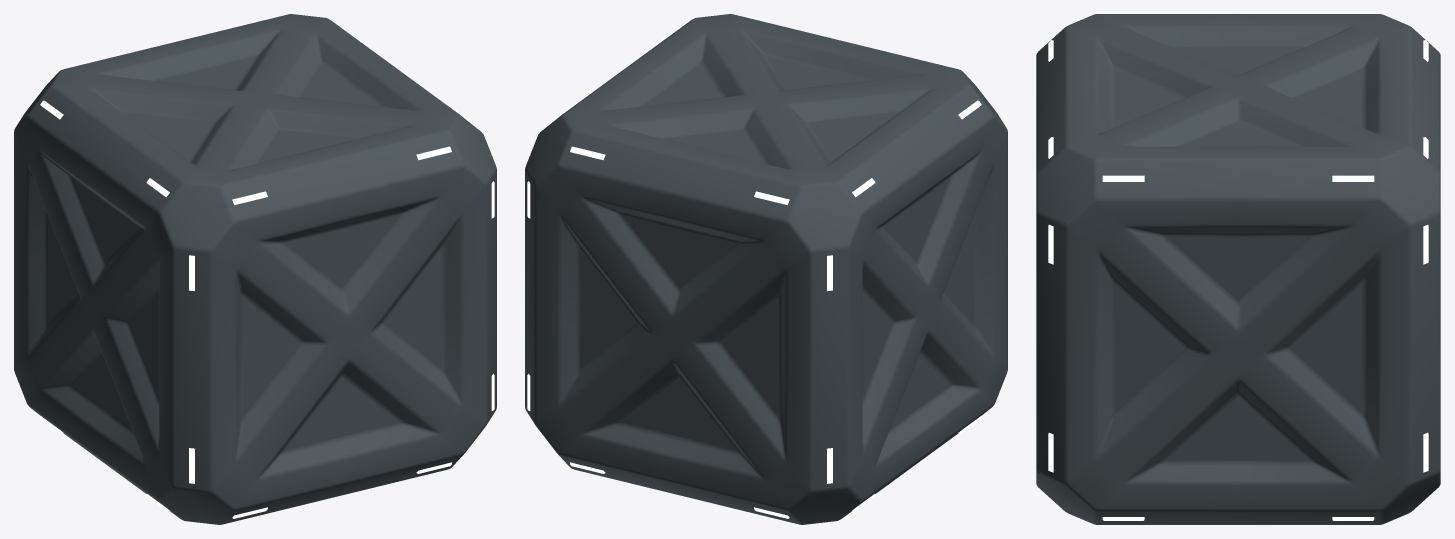
The model's file is cargobox3.glb.
3 views of the same model, side by side, from view 1: azimuth 30°, elevation 25°; view 2: azimuth 150°, elevation 25°; view 3: azimuth 270°, elevation 25° (orthographic). The views are drawn at different scales.
Parts seen in each view (by area): view 1: Quader005_01 - Default_0; view 2: Quader005_01 - Default_0; view 3: Quader005_01 - Default_0.
Boxes of the visible parts, x1,y1,x2,y2 form: Quader005_01 - Default_0: [14, 14, 496, 524]; Quader005_01 - Default_0: [525, 14, 1007, 524]; Quader005_01 - Default_0: [1036, 14, 1440, 524].
Size of the model in its own units: 0.5838 by 0.5838 by 0.5838.
Materials: 1 (1 with a texture image).
